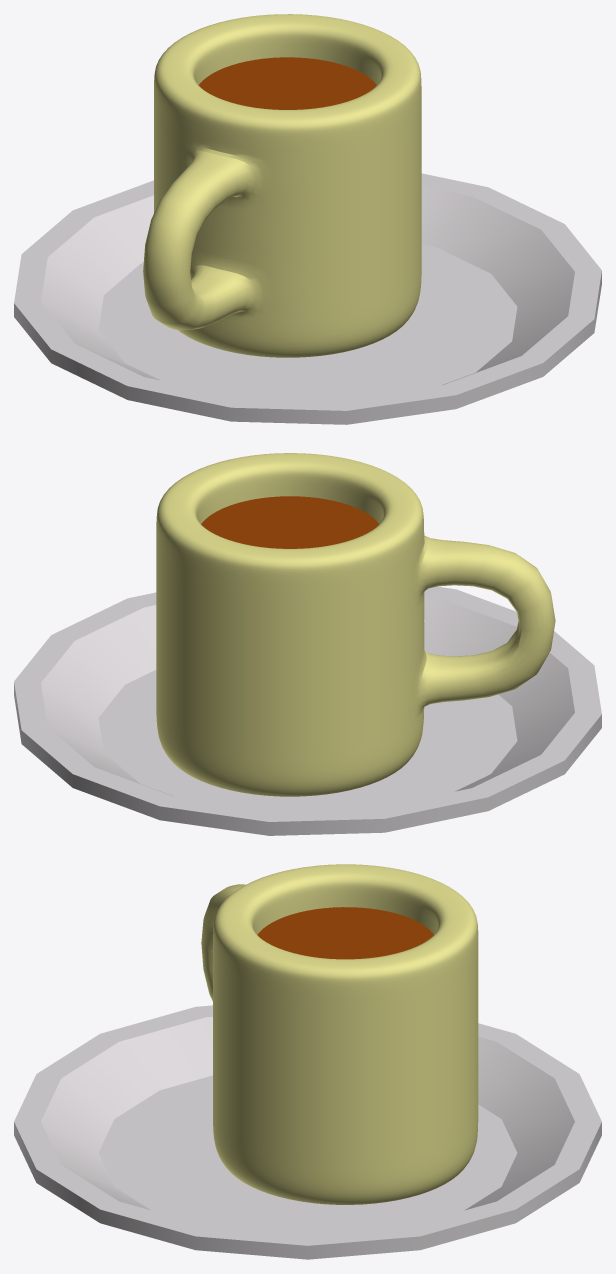
Rendered from coffee cup.fbx.
The picture shows the model from 3 angles, top to bottom: view 1: azimuth 30°, elevation 25°; view 2: azimuth 150°, elevation 25°; view 3: azimuth 270°, elevation 25°; orthographic projection.
Parts seen in each view (by area): view 1: Mug, Plate; view 2: Mug, Plate; view 3: Mug, Plate.
Part boxes in pixels (<box>): Mug: <box>143,14,421,357</box>; Plate: <box>14,173,601,424</box>; Mug: <box>156,453,555,796</box>; Plate: <box>14,586,601,835</box>; Mug: <box>201,864,478,1204</box>; Plate: <box>14,1005,601,1259</box>.
Size of the model in its own units: 175 by 84.41 by 175.
